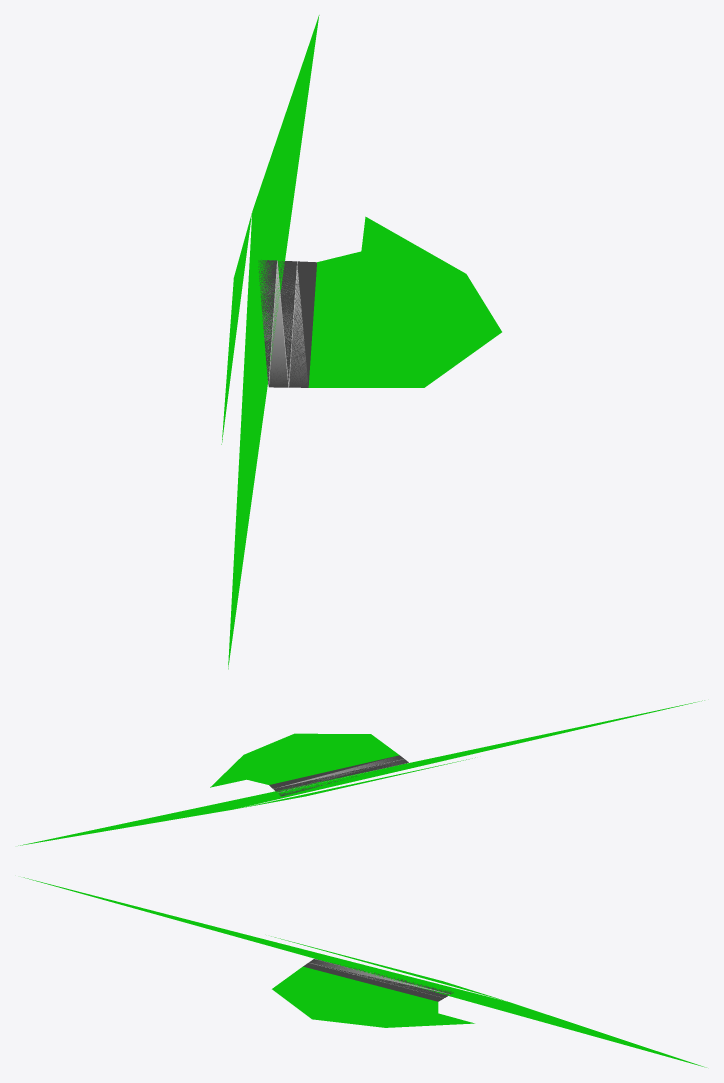
3 renders of one model, top to bottom at view 1: azimuth 30°, elevation 25°; view 2: azimuth 150°, elevation 25°; view 3: azimuth 270°, elevation 25°, orthographic. The views are drawn at different scales.
Size of the model in its own units: 153 by 0.001 by 232.
